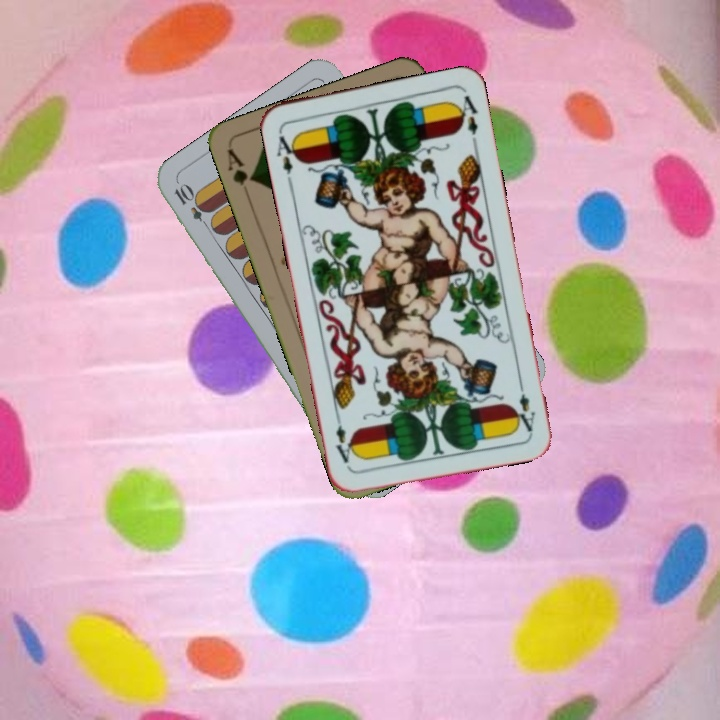E10: (170, 180, 215, 233)
EA: (272, 127, 302, 186), (511, 376, 538, 435)
GA: (223, 145, 258, 202)
